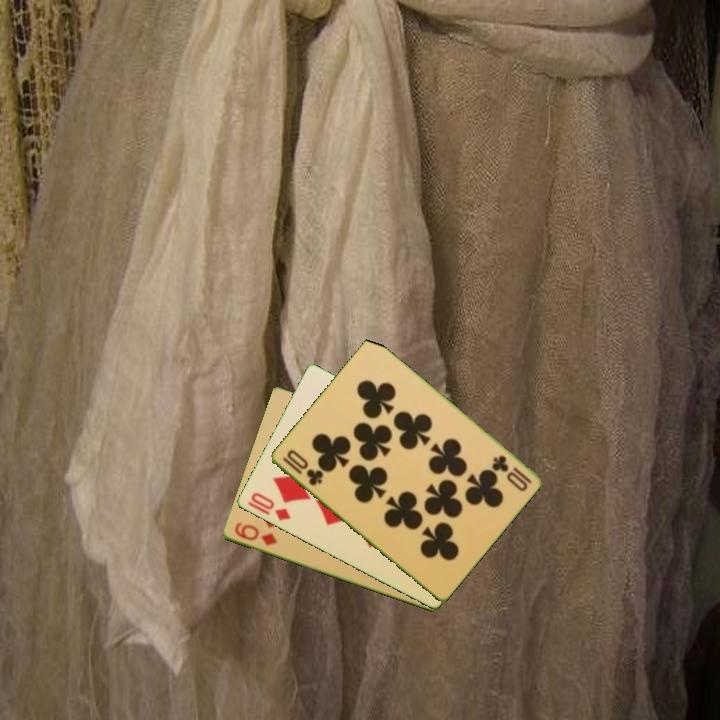10c: (278, 446, 326, 489), (488, 452, 534, 486)
10d: (244, 489, 293, 524)
6d: (231, 519, 280, 549)
